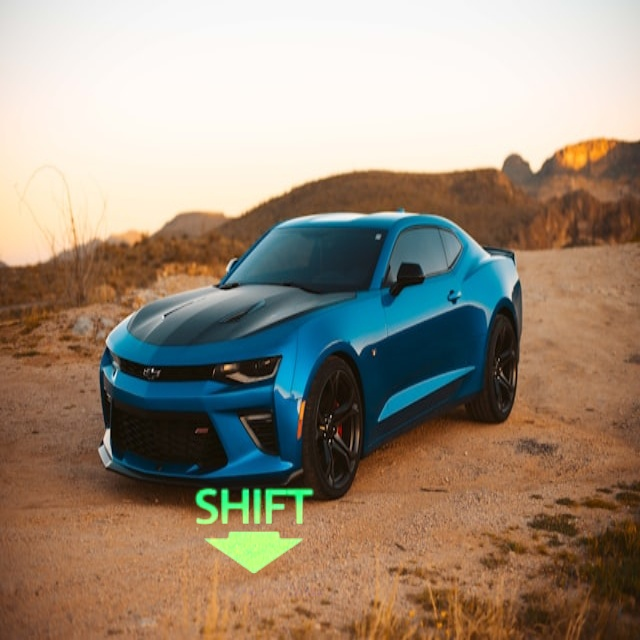symbol: (175, 450, 329, 604)
